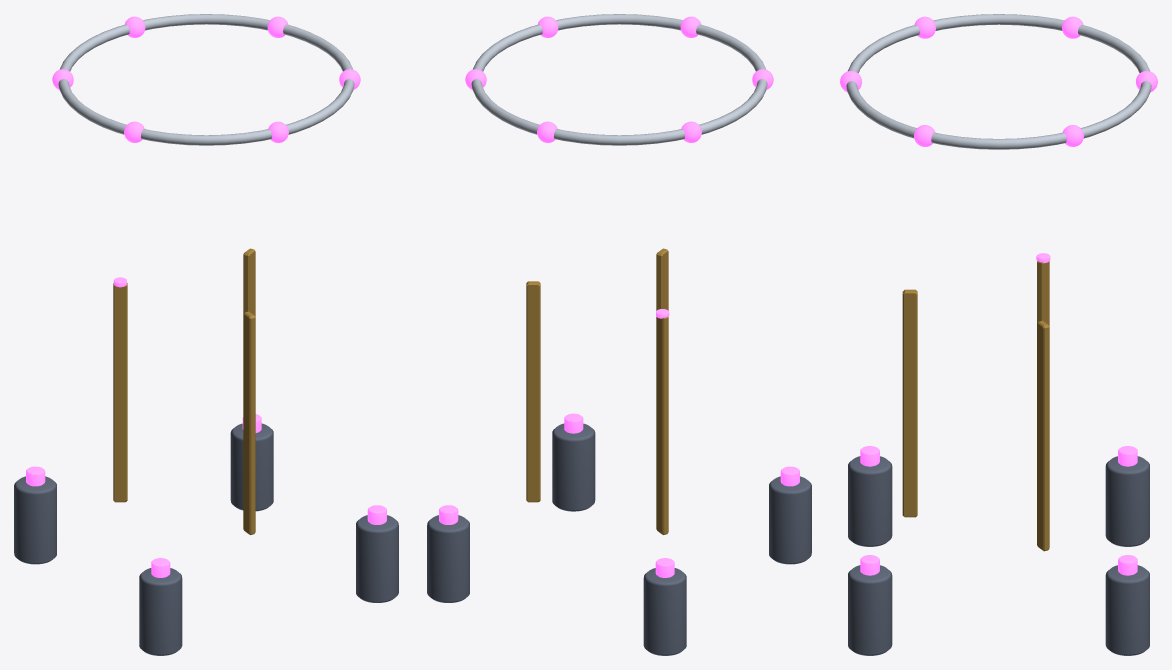
File: tower_arc_damage_s4.glb
The picture shows the model from 3 angles, left to right: view 1: azimuth 30°, elevation 25°; view 2: azimuth 150°, elevation 25°; view 3: azimuth 270°, elevation 25°; orthographic projection. The views are drawn at different scales.
Parts seen in each view (by area): view 1: arc_electrode_ring, arc_shock_cap3, arc_shock_cap0, arc_shock_cap2, arc_ground_strap0, arc_ground_strap2, arc_shock_cap1, arc_ground_strap1; view 2: arc_electrode_ring, arc_shock_cap2, arc_shock_cap0, arc_shock_cap3, arc_shock_cap1, arc_ground_strap1, arc_ground_strap0, arc_ground_strap2; view 3: arc_electrode_ring, arc_shock_cap0, arc_shock_cap1, arc_shock_cap2, arc_shock_cap3, arc_ground_strap2, arc_ground_strap1, arc_ground_strap0.
Boxes of the visible parts, x1,y1,x2,y2 form: arc_electrode_ring: [58, 14, 354, 145]; arc_shock_cap3: [139, 568, 182, 655]; arc_shock_cap0: [14, 476, 56, 564]; arc_shock_cap2: [356, 515, 398, 602]; arc_ground_strap0: [113, 283, 127, 502]; arc_ground_strap2: [243, 311, 255, 534]; arc_shock_cap1: [230, 423, 273, 511]; arc_ground_strap1: [243, 248, 255, 316]; arc_electrode_ring: [471, 14, 767, 145]; arc_shock_cap2: [552, 423, 595, 511]; arc_shock_cap0: [643, 568, 686, 655]; arc_shock_cap3: [769, 476, 811, 564]; arc_shock_cap1: [427, 515, 469, 602]; arc_ground_strap1: [526, 281, 540, 502]; arc_ground_strap0: [656, 316, 668, 534]; arc_ground_strap2: [656, 248, 668, 310]; arc_electrode_ring: [846, 14, 1151, 149]; arc_shock_cap0: [1105, 456, 1149, 546]; arc_shock_cap1: [1105, 565, 1149, 655]; arc_shock_cap2: [848, 565, 892, 655]; arc_shock_cap3: [848, 456, 892, 546]; arc_ground_strap2: [902, 289, 917, 517]; arc_ground_strap1: [1037, 320, 1049, 551]; arc_ground_strap0: [1037, 261, 1049, 326].
Bounding box in the file's own units: 1.24 × 2.34 × 1.29.
